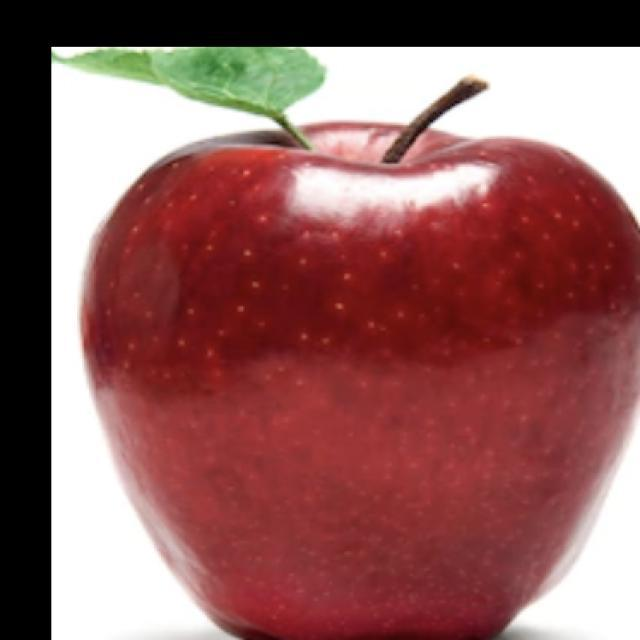Fresh Apple: (85, 123, 640, 635)
